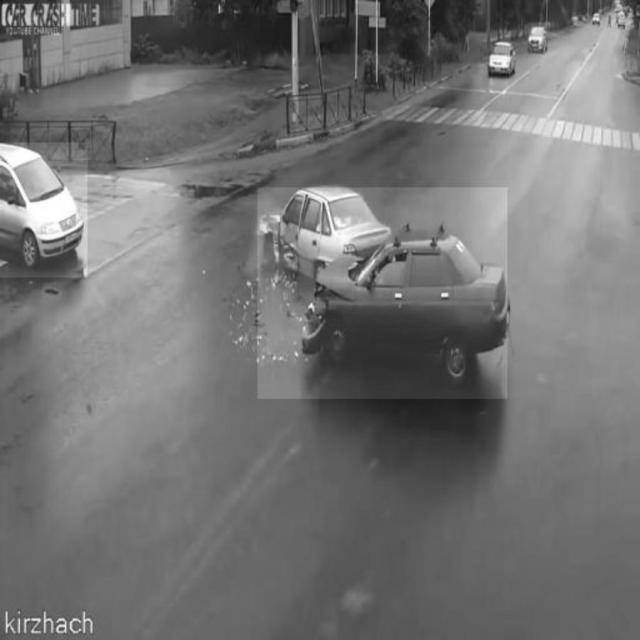accident: (259, 188, 509, 399)
vehicle: (0, 142, 88, 278), (489, 37, 516, 82), (528, 23, 546, 53)
